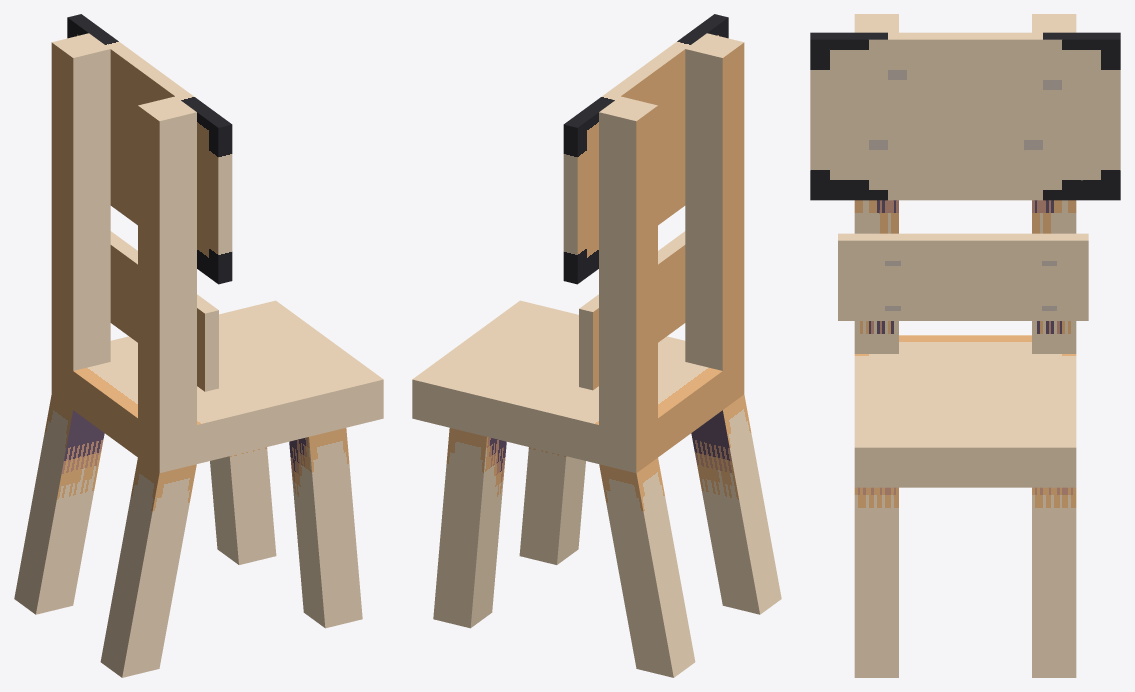
File: Chaise.gltf
3 renders of one model, left to right at view 1: azimuth 30°, elevation 25°; view 2: azimuth 150°, elevation 25°; view 3: azimuth 270°, elevation 25°, orthographic. The views are drawn at different scales.
Size of the model in its own units: 1.75 by 3.5 by 1.75.
Materials: 1 (1 with a texture image).
